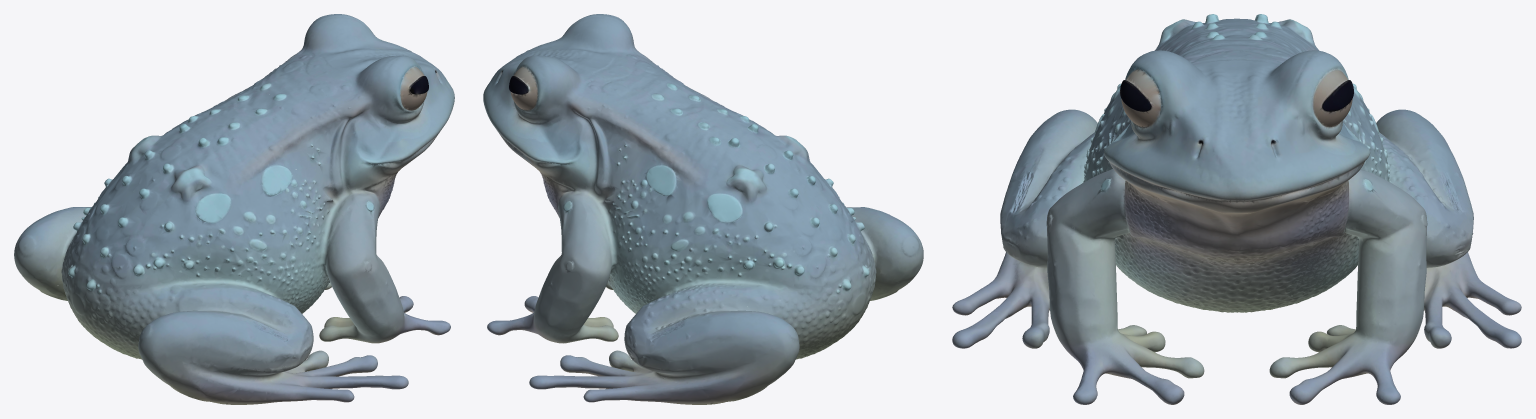
Rendered from bwa.glb.
3 renders of one model, left to right at view 1: azimuth 30°, elevation 25°; view 2: azimuth 150°, elevation 25°; view 3: azimuth 270°, elevation 25°, orthographic. The views are drawn at different scales.
Visible parts, largest first — view 1: tripo_node_78229638-b592-41c7-9d0c-acba89da3633; view 2: tripo_node_78229638-b592-41c7-9d0c-acba89da3633; view 3: tripo_node_78229638-b592-41c7-9d0c-acba89da3633.
Part boxes in pixels (box(x1,y1,x2,y2)): tripo_node_78229638-b592-41c7-9d0c-acba89da3633: box(14, 14, 454, 404); tripo_node_78229638-b592-41c7-9d0c-acba89da3633: box(483, 14, 923, 404); tripo_node_78229638-b592-41c7-9d0c-acba89da3633: box(952, 14, 1521, 404).
Size of the model in its own units: 0.9786 by 0.665 by 1.
1 material, 1 textured.
